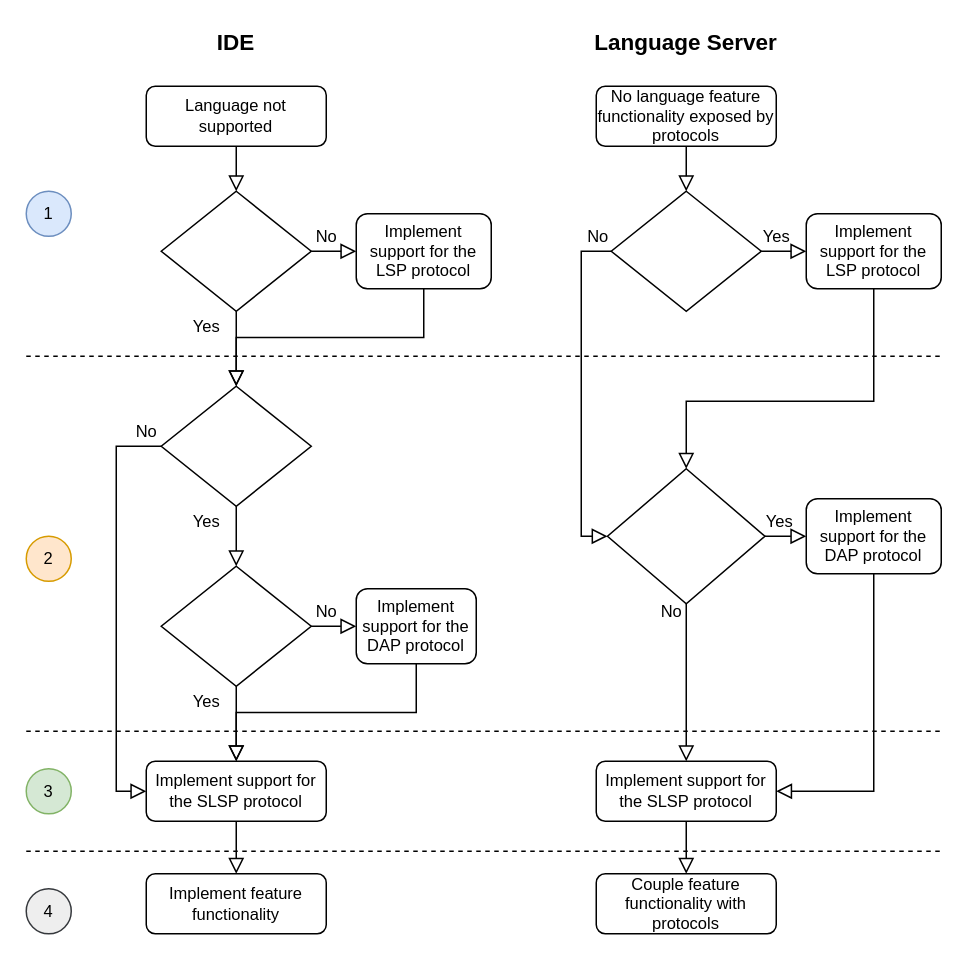
Image size: 969x960. Some labels were removed from this diagram. The box of each missing label's shape, as (x1, y1, x2, y2) in pixels:
Can provide debugging functionality?: (606, 467, 765, 604)
Can provide editor features?: (610, 190, 761, 311)
DAP supported?: (160, 565, 311, 686)
Debugging functionality needed?: (160, 385, 311, 506)
LSP supported?: (160, 190, 311, 311)
